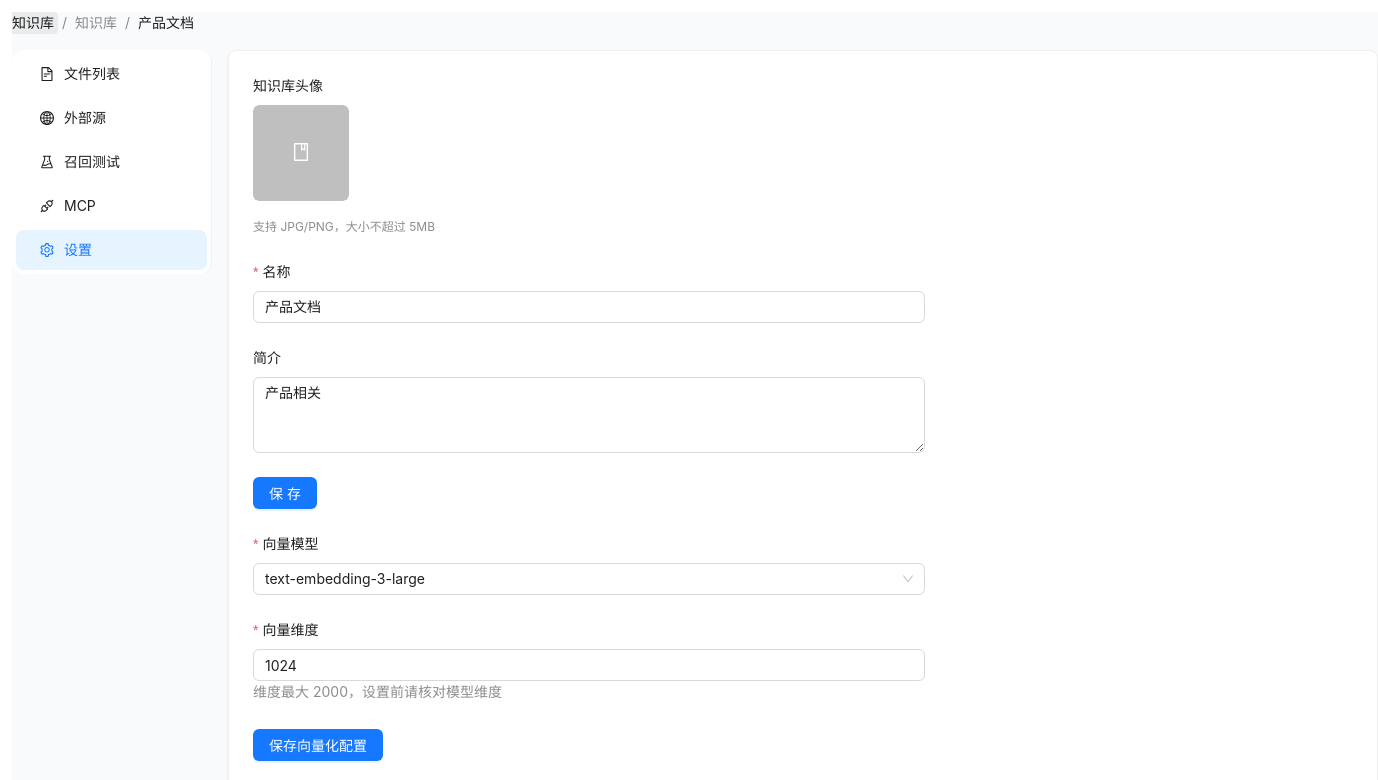
Test: WikiDetail › 管理员保存向量化配置遇到锁定冲突后刷新并显示锁定提示
expect the dropdown labelled "向量维度" is shown: met, box [265,650,913,680]
What coordinates should you click on to do the following:
click the button "保存向量化配置"
I would click on:
 (318, 745)
Its box is [253,729,383,761].
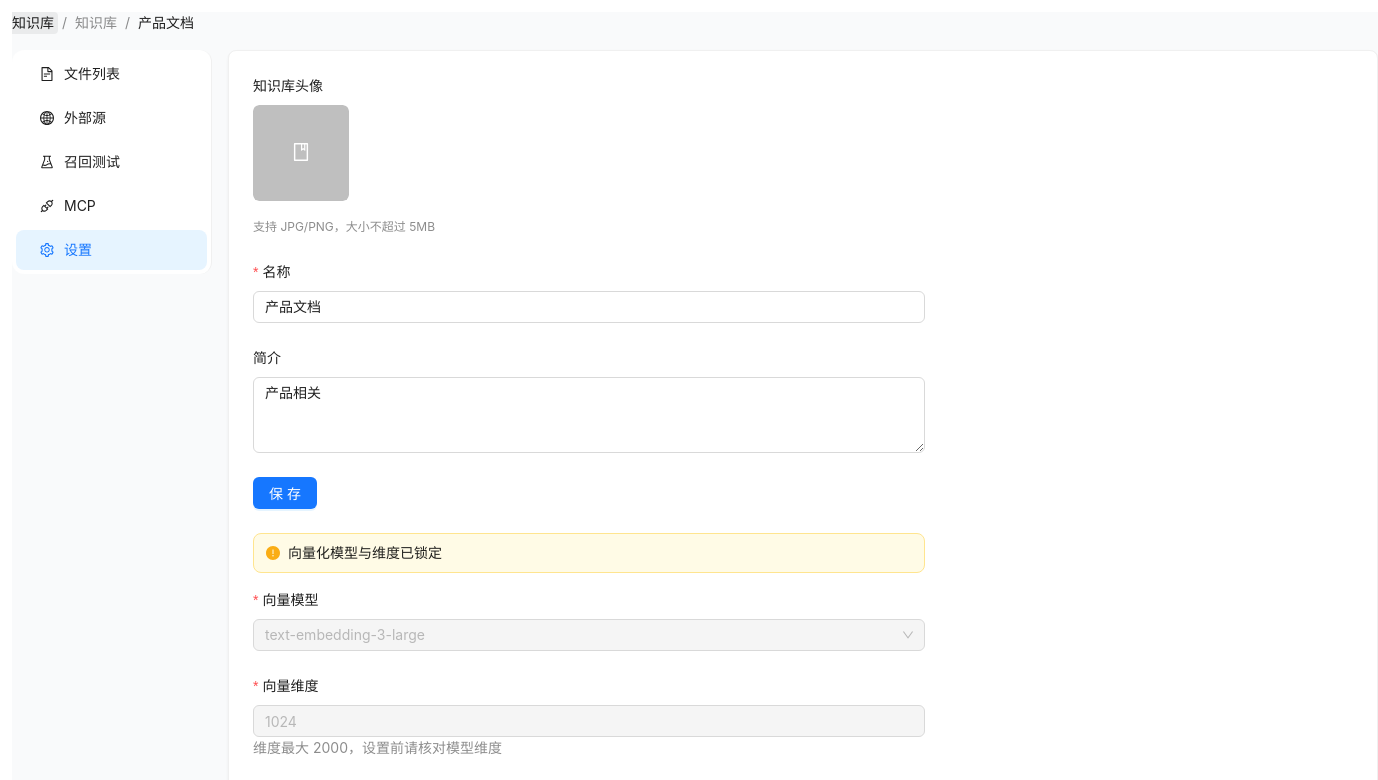
expect the text "向量化模型与维度已锁定" is shown: met, box [288,544,442,561]
